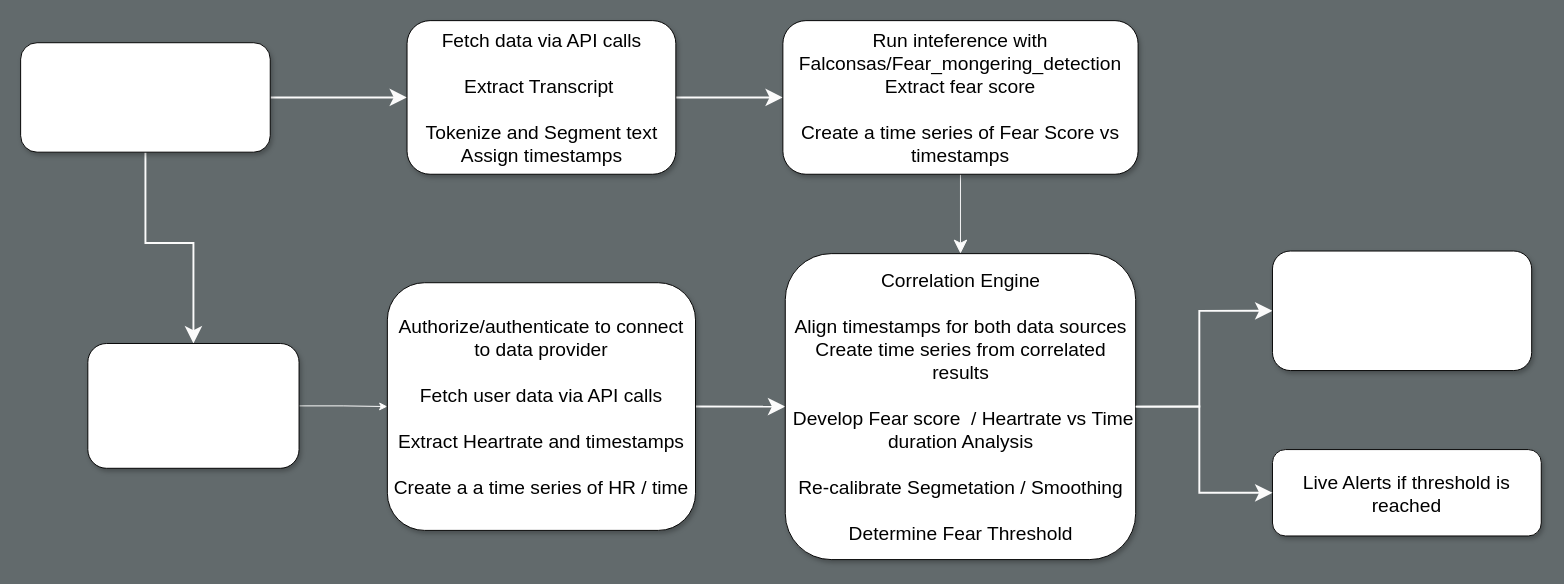
This 1564x584 diagram has some shape labels left out. Each missing label, with the centre of its shape:
"Data Sources (Videos, Transcripts, APIs, CSV files)" belongs at (x=146, y=98).
"UI display / Visualization Time series graphs Reports / Trends" belongs at (x=1402, y=311).
"Users with wearable Device (Fitbit, Apple, Watch, Simulator)" belongs at (x=194, y=407).
